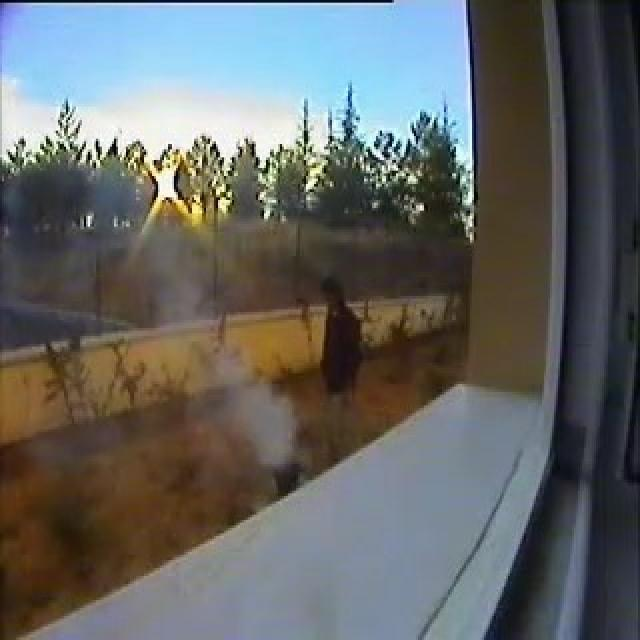smoke: (227, 390, 289, 451)
